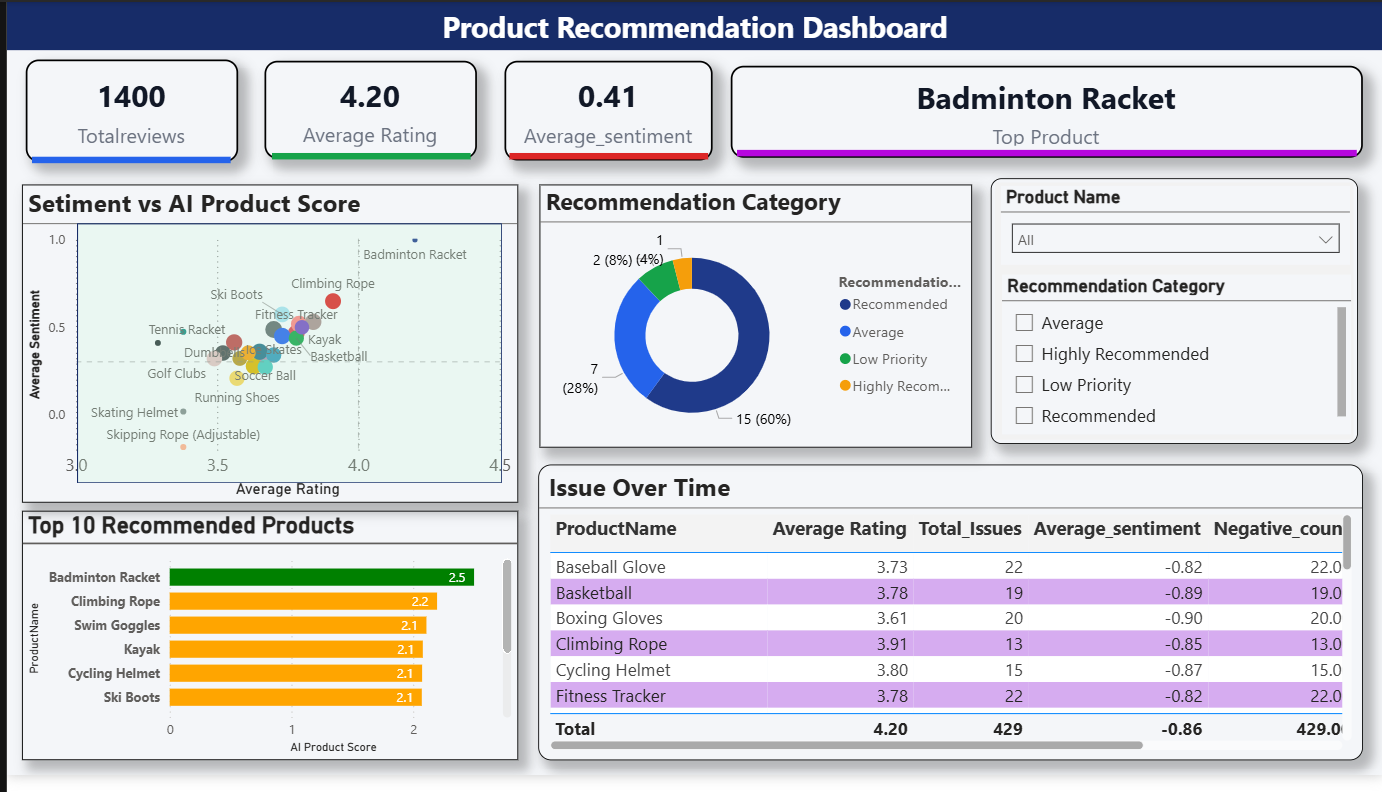

This screenshot's page, from the dashboard's own definition file:
{"tool":"powerbi","page":{"name":"Product Recommendation and Risk Analysis Dashboard","canvas":[1280,720],"ordinal":5},"visuals":[{"type":"shape","box":[915.3,164.5,341.5,247.5],"z":0},{"type":"card","fields":{"Values":["fact_ai_product_recommendations.Totalreviews"]},"box":[17.5,53.8,197.5,95],"z":1000},{"type":"card","fields":{"Values":["fact_ai_product_recommendations.Average Rating"]},"box":[240,55,197.5,91.2],"z":2000},{"type":"card","fields":{"Values":["fact_ai_product_recommendations.Average_sentiment"]},"box":[462.5,55,193.8,92.5],"z":3000},{"type":"clusteredBarChart","title":"Top 10 Recommended Products","fields":{"Category":["fact_ai_product_recommendations.ProductName"],"Y":["fact_ai_product_recommendations.AI Product Score"]},"box":[13.8,473.7,461.8,232.3],"z":4000},{"type":"scatterChart","title":"Setiment vs AI Product Score","fields":{"X":["fact_ai_product_recommendations.Average Rating"],"Y":["fact_ai_product_recommendations.Average_sentiment"],"Size":["fact_ai_product_recommendations.Totalreviews"],"Category":["fact_ai_product_recommendations.ProductName"]},"box":[13.8,170.1,461.8,295.9],"z":5000},{"type":"tableEx","title":"Issue Over Time","fields":{"Values":["fact_ai_product_recommendations.ProductName","fact_ai_product_recommendations.Average Rating","final_ai_output.Total_Reviews","fact_ai_product_recommendations.Average_sentiment","Sum(fact_ai_product_recommendations.negative_count)","fact_ai_product_recommendations.Recommendation Category"]},"box":[494.5,430.7,766.9,274.8],"z":6000},{"type":"slicer","title":"Product Name","fields":{"Values":["final_ai_output.ProductName"]},"box":[925,171.4,324.9,73.3],"z":7000},{"type":"textbox","box":[0,0,1280,45],"z":8000},{"type":"shape","box":[23.8,82.5,185,128.8],"z":9000},{"type":"shape","box":[246.2,78.8,185,128.8],"z":10000},{"type":"shape","box":[467.5,78.8,185,128.8],"z":11000},{"type":"shape","box":[65.5,205.5,395.4,242],"z":13000},{"type":"card","fields":{"Values":["fact_ai_product_recommendations.Top Product"]},"box":[673.3,59.5,587.6,85.7],"z":14000},{"type":"shape","box":[678.9,76,576.5,130],"z":15000},{"type":"donutChart","title":"Recommendation Category","fields":{"Category":["fact_ai_product_recommendations.Recommendation Category"],"Y":["CountNonNull(fact_ai_product_recommendations.ProductID)"]},"box":[495,170.1,402.3,244.7],"z":16000},{"type":"slicer","title":"Recommendation Category","fields":{"Values":["fact_ai_product_recommendations.Recommendation Category"]},"box":[925.2,254,325.2,148.5],"z":17001}]}

Visuals, with their boxes in screenshot pixels (x1, y1, x2, y2), scaled from the page's 1280x720 canvas onto the 1382x792 screenshot:
shape: (988, 181, 1357, 453)
card - fact_ai_product_recommendations.Totalreviews: (19, 59, 232, 164)
card - fact_ai_product_recommendations.Average Rating: (259, 61, 472, 161)
card - fact_ai_product_recommendations.Average_sentiment: (499, 61, 709, 162)
"Top 10 Recommended Products" clusteredBarChart: (15, 521, 513, 777)
"Setiment vs AI Product Score" scatterChart: (15, 187, 513, 513)
"Issue Over Time" tableEx: (534, 474, 1362, 776)
"Product Name" slicer: (999, 189, 1350, 269)
textbox: (0, 0, 1381, 50)
shape: (26, 91, 225, 232)
shape: (266, 87, 466, 228)
shape: (505, 87, 704, 228)
shape: (71, 226, 498, 492)
card - fact_ai_product_recommendations.Top Product: (727, 65, 1361, 160)
shape: (733, 84, 1355, 227)
"Recommendation Category" donutChart: (534, 187, 969, 456)
"Recommendation Category" slicer: (999, 279, 1350, 443)
